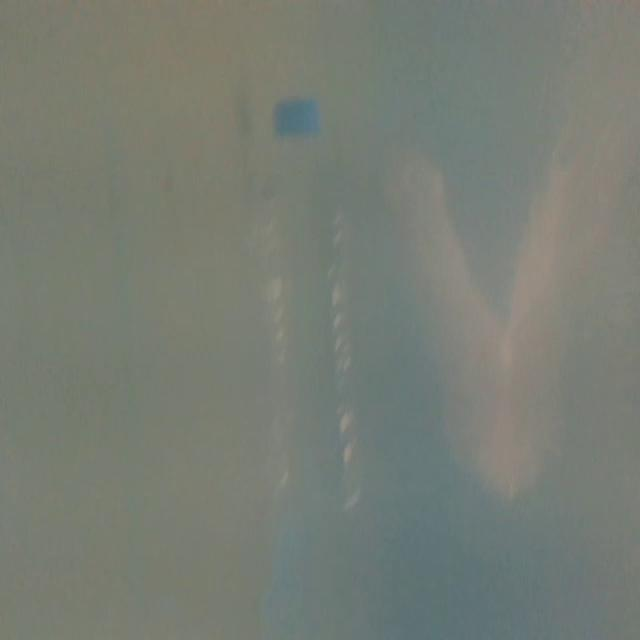plastic bags: (394, 160, 584, 506)
plastic bottle: (253, 91, 371, 518)
